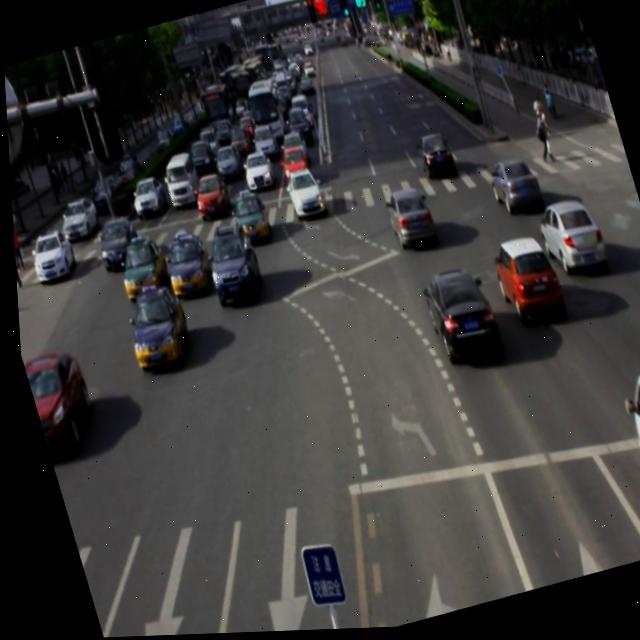car: (414, 264, 500, 371), (114, 278, 194, 377), (483, 232, 561, 329), (530, 195, 605, 279), (194, 218, 261, 308), (108, 232, 171, 308), (154, 231, 212, 302), (380, 184, 437, 256), (482, 154, 540, 219), (225, 188, 271, 246), (279, 167, 324, 221)
truck: (613, 362, 640, 558)
